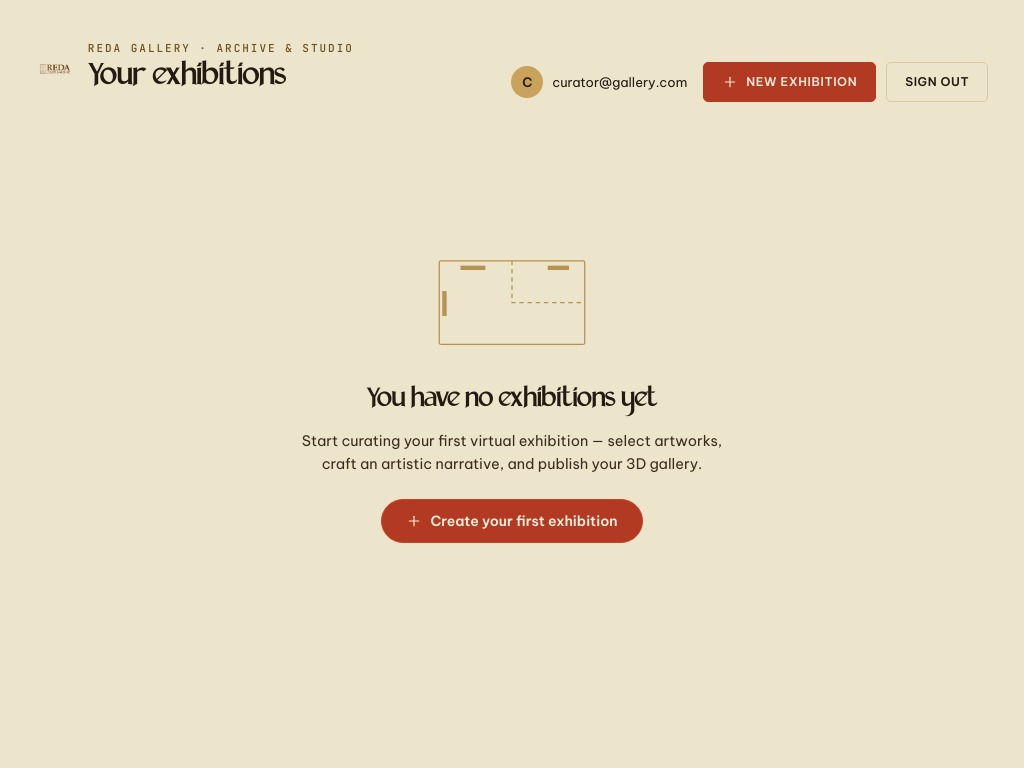
Scenario: StudioApp shell › renders New Exhibition form in light register and toggles custom space
Click the button "New exhibition". click: [790, 82]
box: left=703, top=62, right=876, bottom=102
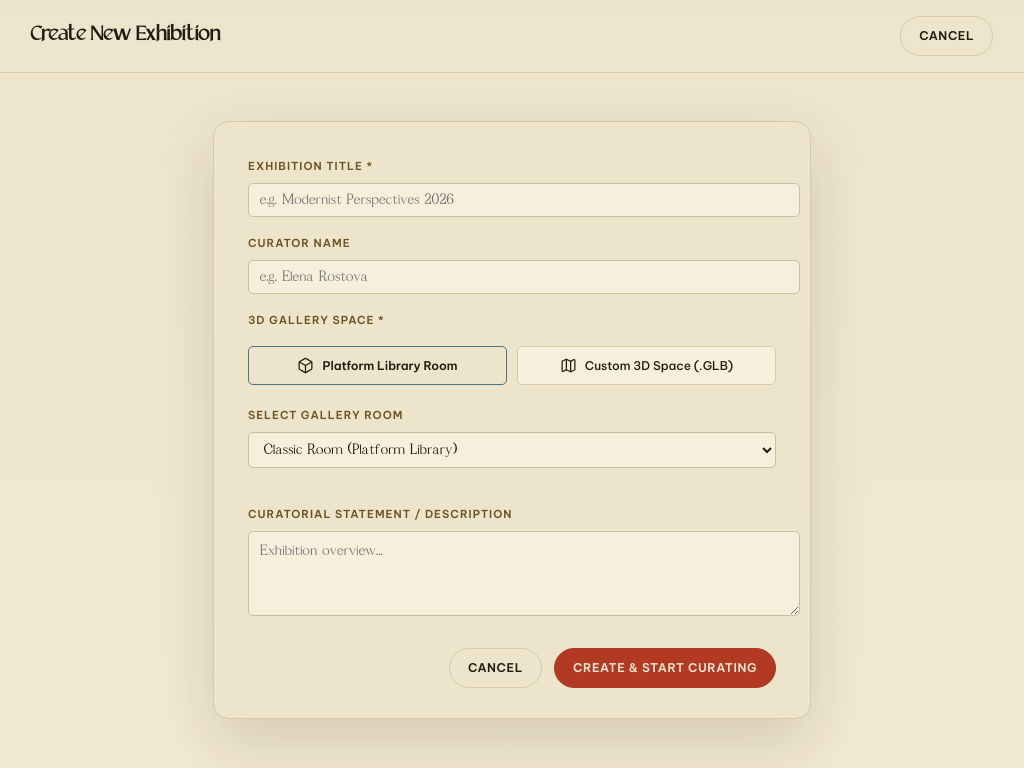
Check: the heading "Create New Exhibition" is shown, box left=31, top=24, right=220, bottom=48
Check: the dialog with class "studio-card" is shown, box left=213, top=121, right=811, bottom=719
Note: Toggle custom space
Click the button "Custom 3D Space (.GLB)". click: [646, 366]
box: left=517, top=346, right=776, bottom=385
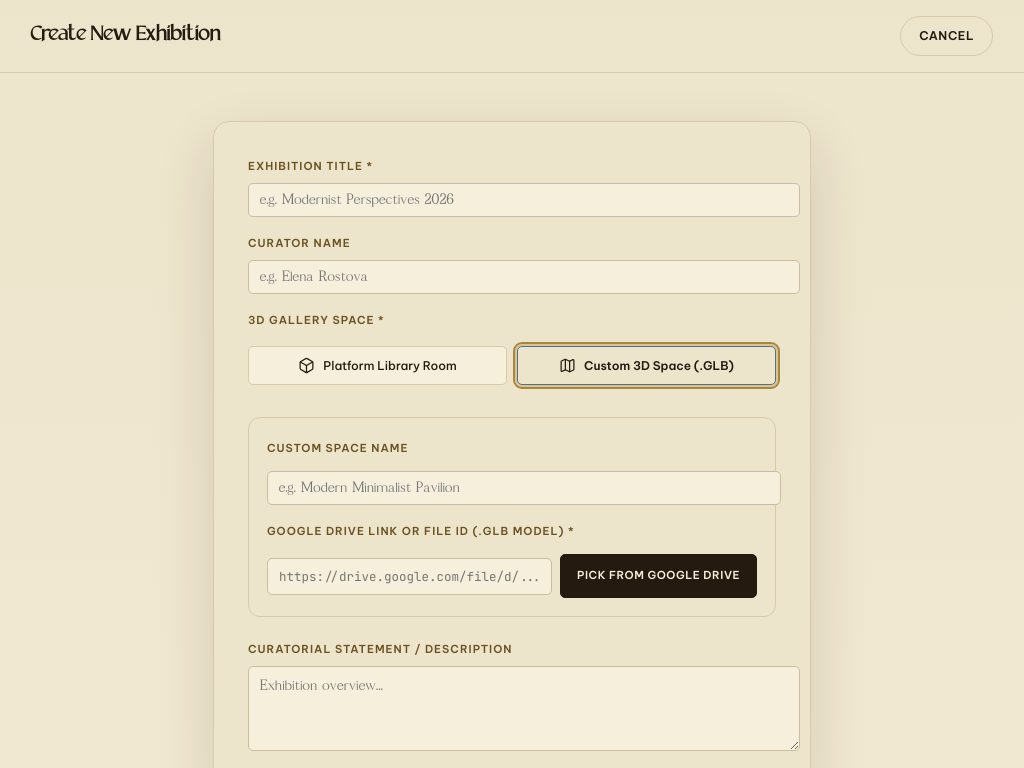
Check: the field labelled "Custom Space Name" is shown, box left=267, top=471, right=781, bottom=505
Note: Cancel back to dashboard
Click the button "Cancel". click: [947, 36]
box: left=900, top=16, right=993, bottom=56
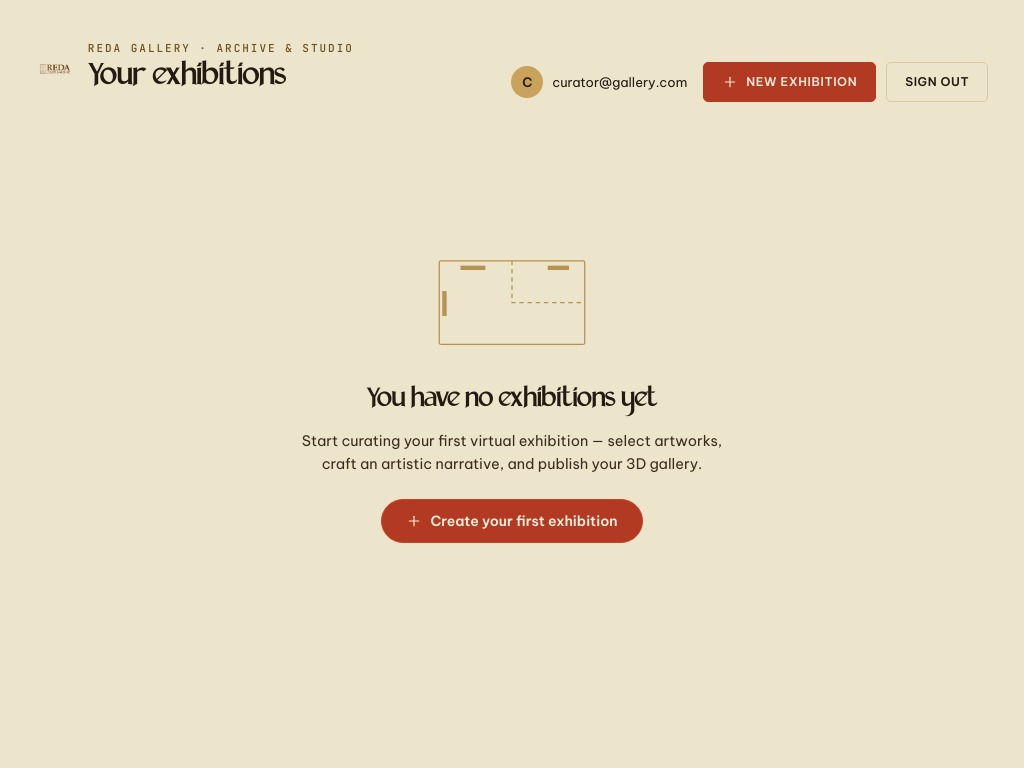
Check: the heading "Your exhibitions" is shown, box left=88, top=55, right=287, bottom=101
